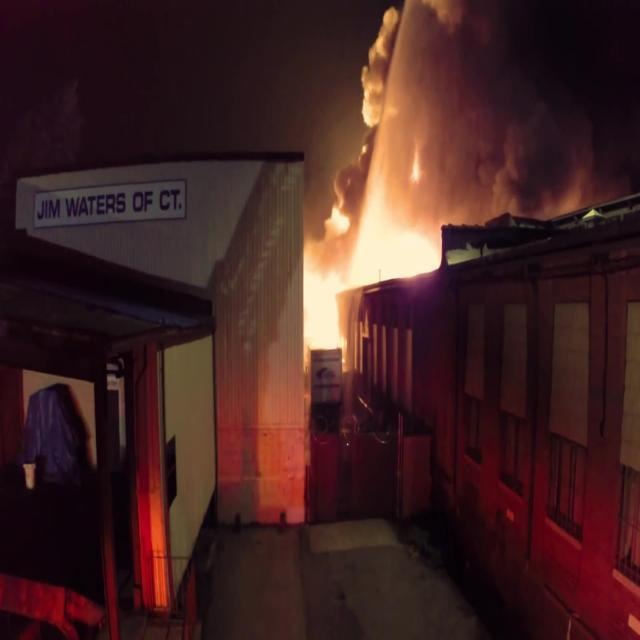Fire: (298, 191, 454, 354)
Smoke: (300, 19, 620, 350)
